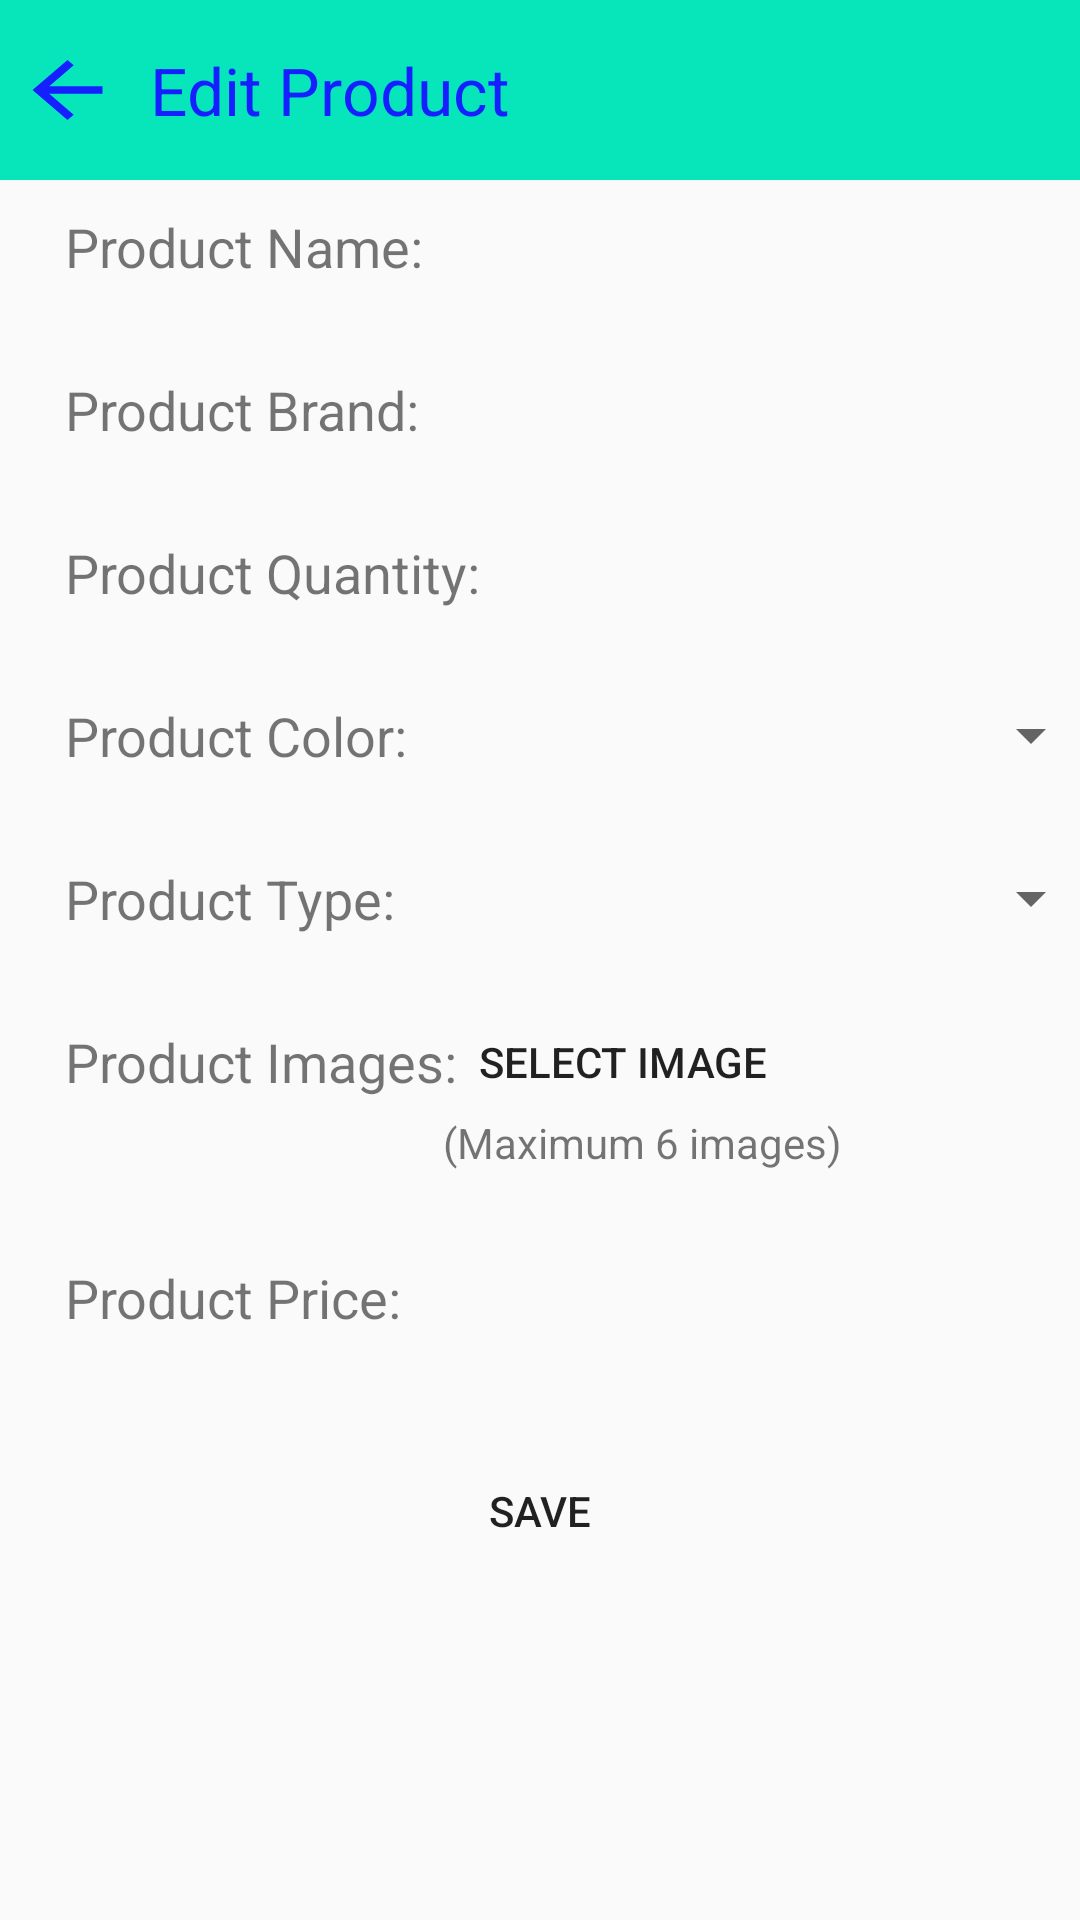

Where to tap for icons on this 1080x1920 app screen, as [x,y]:
arrow back: [68,90]
